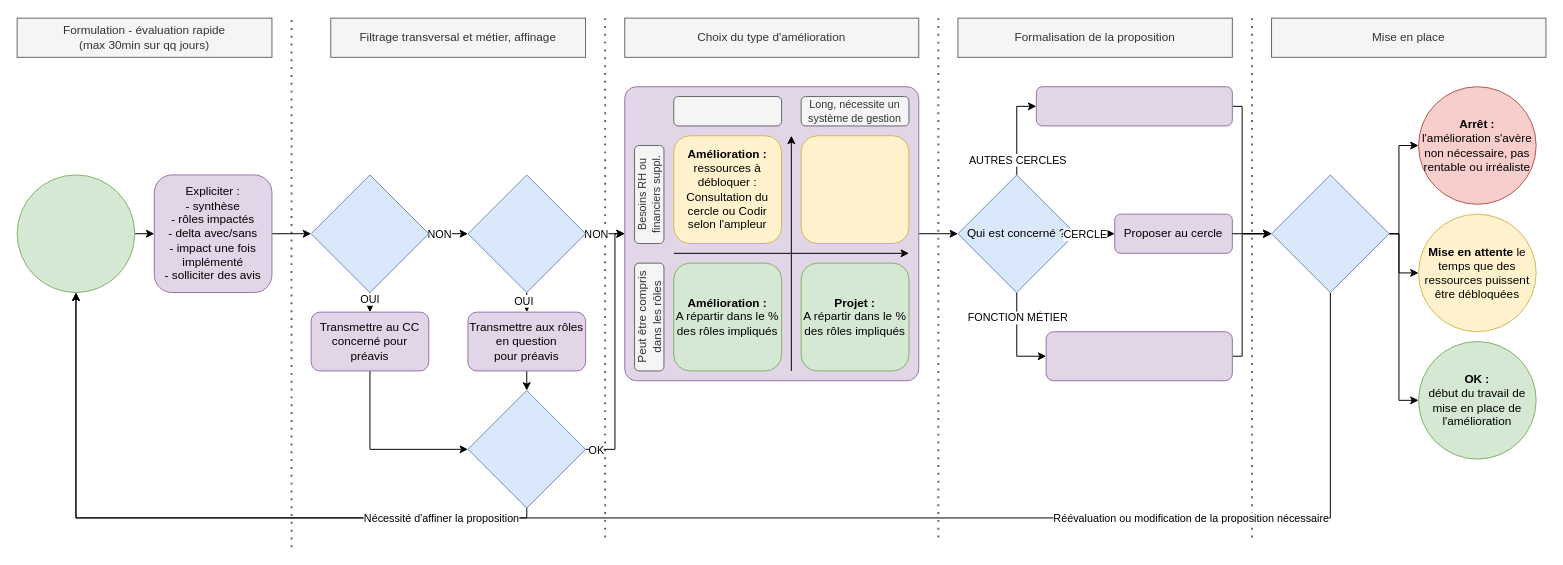
The diagram is 1563 pixels wide and 565 high, and some of its shapes have lost their labels. Each missing label, with the box of its shape:
Analyse des retours: (467, 390, 586, 508)
Court, peut être porté individuellement: (673, 96, 782, 126)
Des rôles aux compétences métier sont-ils concernés ?: (467, 174, 586, 293)
prise en compte des retours généraux: (1271, 174, 1389, 293)
Projet : ressources à débloquer : Consultation du Codir: (800, 135, 909, 244)
Proposer aux cercles concernés ou a tous selon situation: (1035, 86, 1232, 126)
Proposer l'amélioration aux rôles métiers concernés.: (1045, 331, 1232, 381)
Proposition d'amélioration ou de projet: (16, 174, 135, 293)
Un des cercles support est-il concerné ?: (310, 174, 429, 293)
